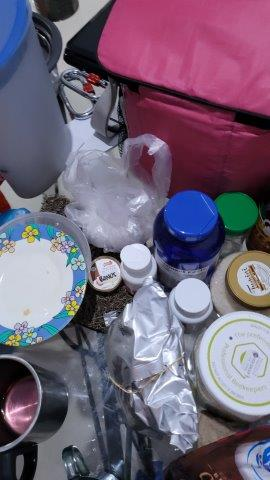plastik: (58, 131, 175, 253)
